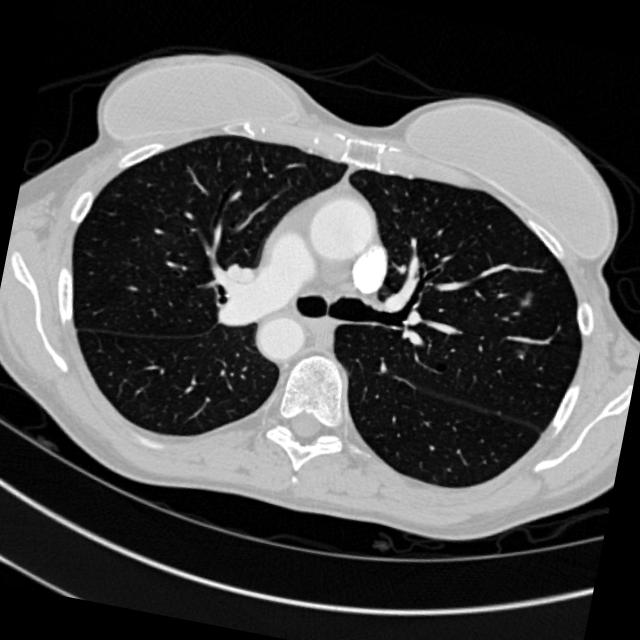nodule: (518, 288, 540, 311)
